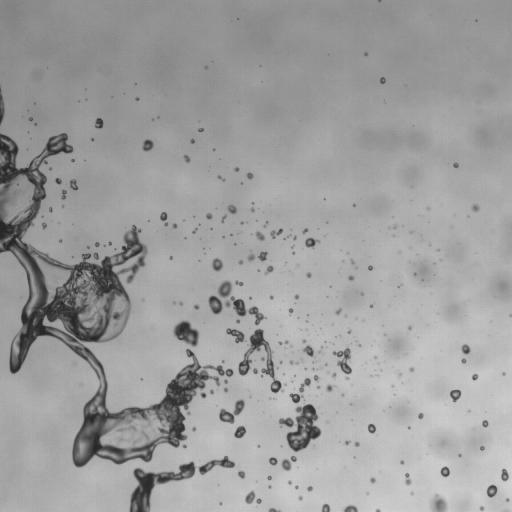droplet: (238, 329, 286, 392), (208, 280, 265, 325), (278, 404, 321, 451), (173, 320, 199, 346), (332, 346, 351, 379), (219, 399, 244, 423), (429, 494, 447, 511), (226, 328, 245, 342), (281, 456, 296, 470), (245, 490, 261, 503), (234, 425, 246, 438), (305, 237, 319, 248), (450, 388, 461, 402), (302, 345, 314, 357), (486, 484, 497, 497), (142, 139, 153, 151), (212, 258, 222, 271), (440, 466, 450, 477), (255, 231, 265, 241), (501, 469, 509, 481), (264, 265, 273, 275), (461, 344, 470, 354), (227, 205, 236, 214), (95, 118, 103, 128), (70, 179, 77, 190), (405, 473, 411, 485), (269, 457, 277, 465), (368, 424, 375, 433), (321, 504, 330, 511), (471, 204, 479, 211), (326, 384, 334, 391), (238, 470, 245, 478), (246, 172, 253, 179), (184, 155, 190, 162), (472, 373, 478, 380), (482, 420, 488, 427), (235, 280, 243, 285), (55, 178, 61, 184), (206, 213, 212, 219), (348, 275, 354, 281), (313, 375, 319, 381), (380, 77, 385, 83), (335, 309, 341, 314), (370, 477, 375, 483), (307, 486, 313, 491), (453, 162, 458, 167), (172, 223, 177, 228), (302, 228, 307, 233), (306, 272, 311, 277), (294, 294, 299, 299), (194, 304, 199, 309), (461, 358, 466, 363), (418, 413, 423, 418), (345, 440, 350, 445), (354, 441, 359, 446), (479, 506, 484, 511), (263, 222, 267, 228), (289, 308, 293, 314), (198, 128, 203, 132), (234, 167, 239, 171), (42, 223, 46, 228), (238, 260, 243, 264), (368, 265, 372, 270), (409, 367, 414, 371), (332, 372, 336, 377), (397, 372, 401, 377), (298, 495, 302, 500), (29, 117, 33, 121), (190, 139, 194, 143), (250, 207, 254, 211), (95, 242, 99, 246), (350, 259, 354, 263), (269, 295, 273, 299), (480, 446, 484, 450), (294, 485, 298, 489), (193, 228, 196, 233), (49, 207, 52, 211), (393, 225, 397, 228), (107, 242, 111, 245), (348, 329, 351, 333), (302, 339, 305, 343), (400, 461, 404, 464), (267, 476, 271, 479), (375, 509, 380, 511), (71, 159, 74, 162), (293, 236, 296, 239), (179, 302, 182, 305), (408, 326, 411, 329), (357, 343, 360, 346), (224, 388, 227, 391), (210, 390, 213, 393), (192, 427, 195, 430), (183, 444, 186, 447), (288, 481, 291, 484), (506, 498, 509, 501), (136, 97, 138, 100), (34, 123, 37, 125), (59, 277, 61, 280), (236, 320, 239, 322), (224, 380, 227, 382), (317, 385, 319, 388), (458, 454, 461, 456), (410, 492, 413, 494), (291, 246, 293, 248), (170, 257, 172, 259), (370, 305, 372, 307), (280, 361, 282, 363), (313, 360, 315, 362)
ligament: (0, 133, 233, 465), (129, 456, 235, 511), (289, 378, 311, 403), (247, 251, 267, 261), (0, 86, 4, 124), (270, 228, 283, 238), (160, 212, 167, 225), (343, 505, 357, 511), (278, 340, 288, 345), (61, 190, 66, 199), (268, 508, 281, 511), (318, 346, 323, 353), (290, 360, 298, 364), (218, 175, 224, 180), (221, 215, 226, 221), (503, 509, 511, 511)
